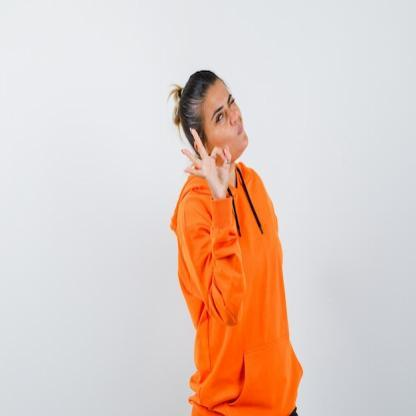ok: (178, 124, 234, 194)
